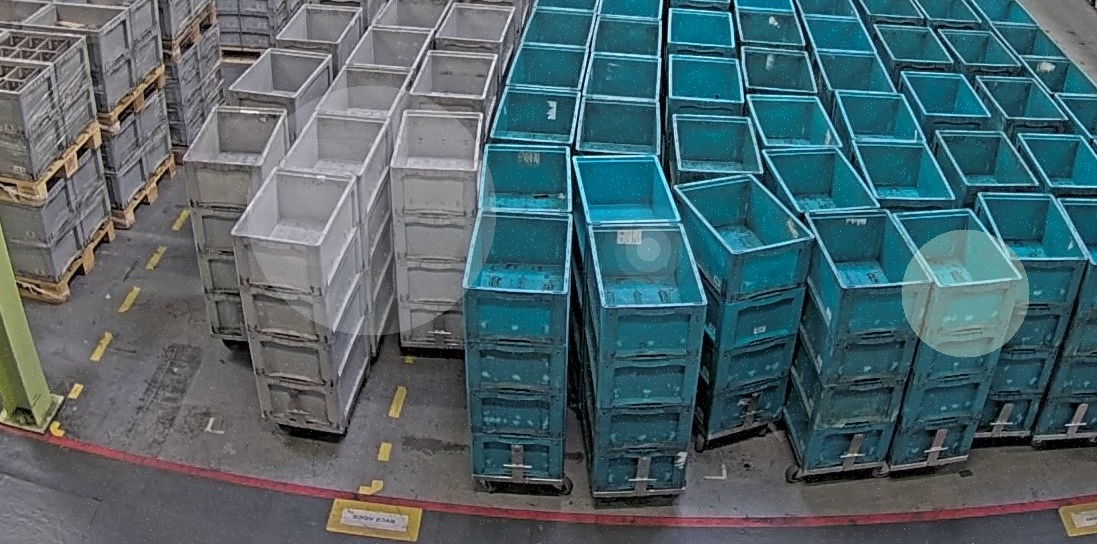4G: (230, 167, 372, 430), (181, 105, 291, 337), (389, 109, 484, 346)
B4: (781, 206, 935, 470), (671, 172, 817, 435), (580, 221, 709, 493), (889, 207, 1023, 468), (461, 207, 574, 480), (963, 191, 1086, 435)
